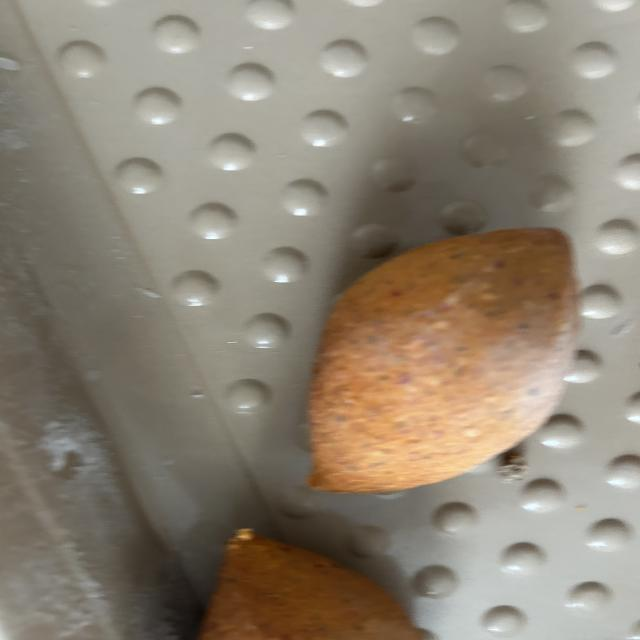kobi: (304, 226, 582, 494), (200, 526, 438, 640)
